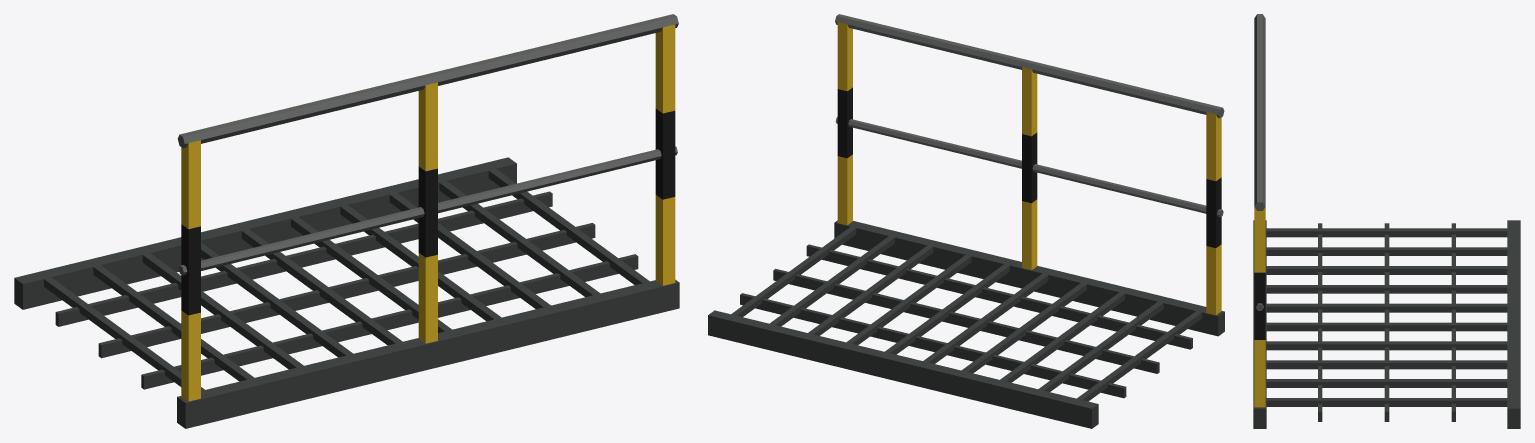
The model's file is catwalk_straight.glb.
The picture shows the model from 3 angles, left to right: view 1: azimuth 30°, elevation 25°; view 2: azimuth 150°, elevation 25°; view 3: azimuth 270°, elevation 25°; orthographic projection. The views are drawn at different scales.
Visible parts, largest first — view 1: surf_climb_catwalk_straight; view 2: surf_climb_catwalk_straight; view 3: surf_climb_catwalk_straight.
Boxes of the visible parts, x1,y1,x2,y2 form: surf_climb_catwalk_straight: (14,14,679,428); surf_climb_catwalk_straight: (708,14,1224,428); surf_climb_catwalk_straight: (1253,14,1520,428).
Size of the model in its own units: 2 by 1.12 by 1.2.
